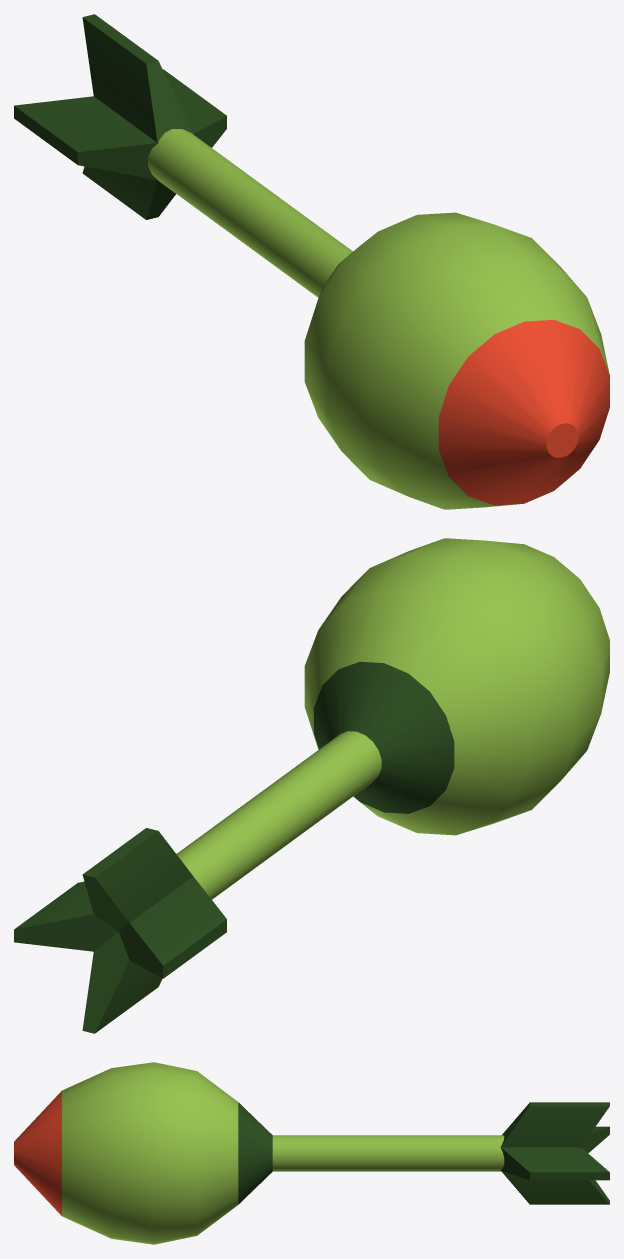
The model's file is missile.fbx.
3 renders of one model, top to bottom at view 1: azimuth 30°, elevation 25°; view 2: azimuth 150°, elevation 25°; view 3: azimuth 270°, elevation 25°, orthographic. The views are drawn at different scales.
Parts seen in each view (by area): view 1: Missile; view 2: Missile; view 3: Missile.
Boxes of the visible parts, x1,y1,x2,y2 form: Missile: (14, 14, 609, 509); Missile: (14, 538, 609, 1033); Missile: (14, 1062, 609, 1244).
Size of the model in its own units: 36.73 by 37.3 by 121.
